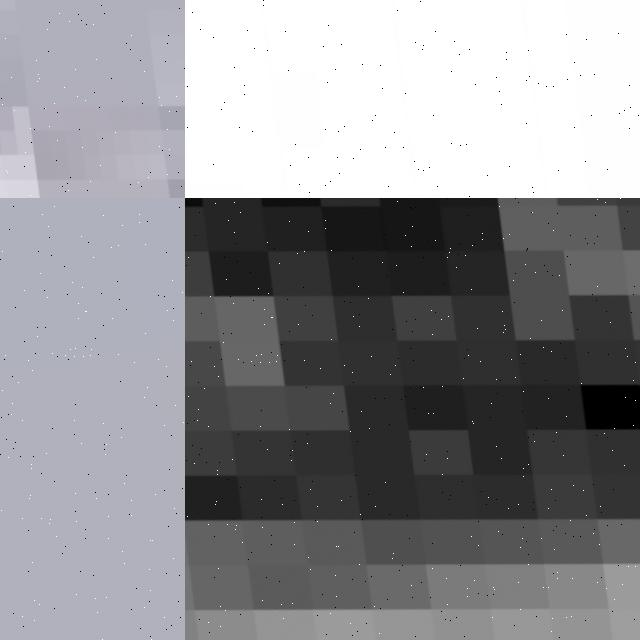drone: (185, 198, 640, 640), (185, 0, 640, 198), (0, 0, 185, 198)
